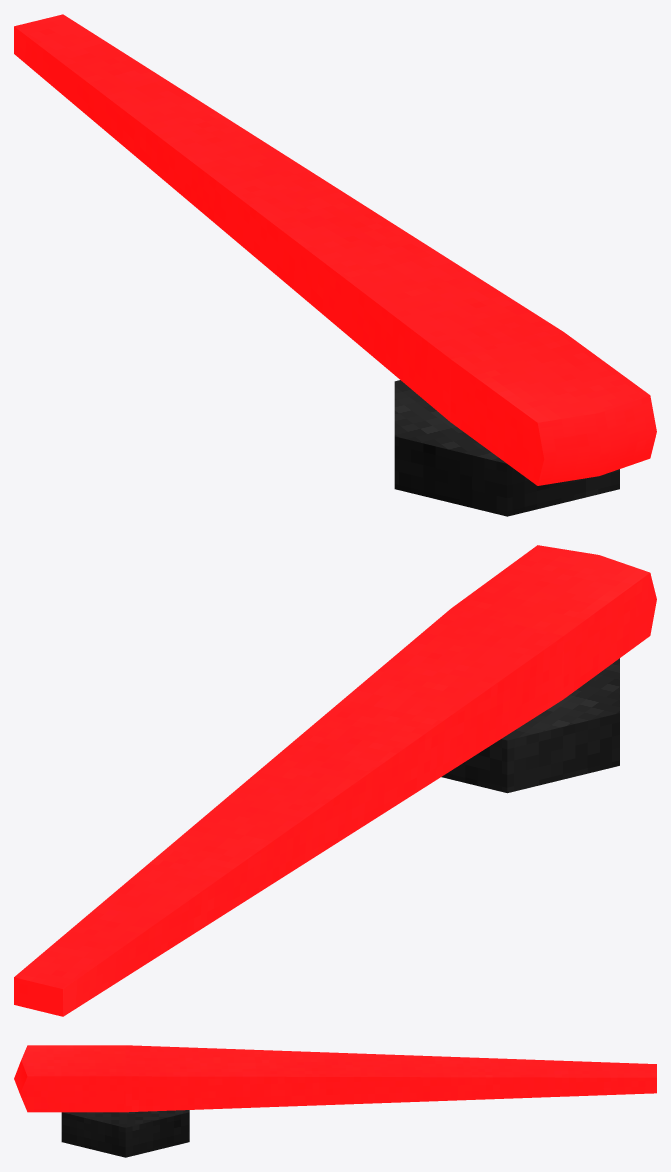
File: Hand.glb
The picture shows the model from 3 angles, top to bottom: view 1: azimuth 30°, elevation 25°; view 2: azimuth 150°, elevation 25°; view 3: azimuth 270°, elevation 25°; orthographic projection. The views are drawn at different scales.
Parts seen in each view (by area): view 1: pCylinder2; view 2: pCylinder2; view 3: pCylinder2.
Part boxes in pixels (left/top/right/bottom): pCylinder2: left=14, top=14, right=656, bottom=516; pCylinder2: left=14, top=545, right=656, bottom=1016; pCylinder2: left=14, top=1045, right=656, bottom=1157.
Bounding box in the file's own units: 1 × 0.4914 × 4.36.
Materials: 1 (1 with a texture image).
